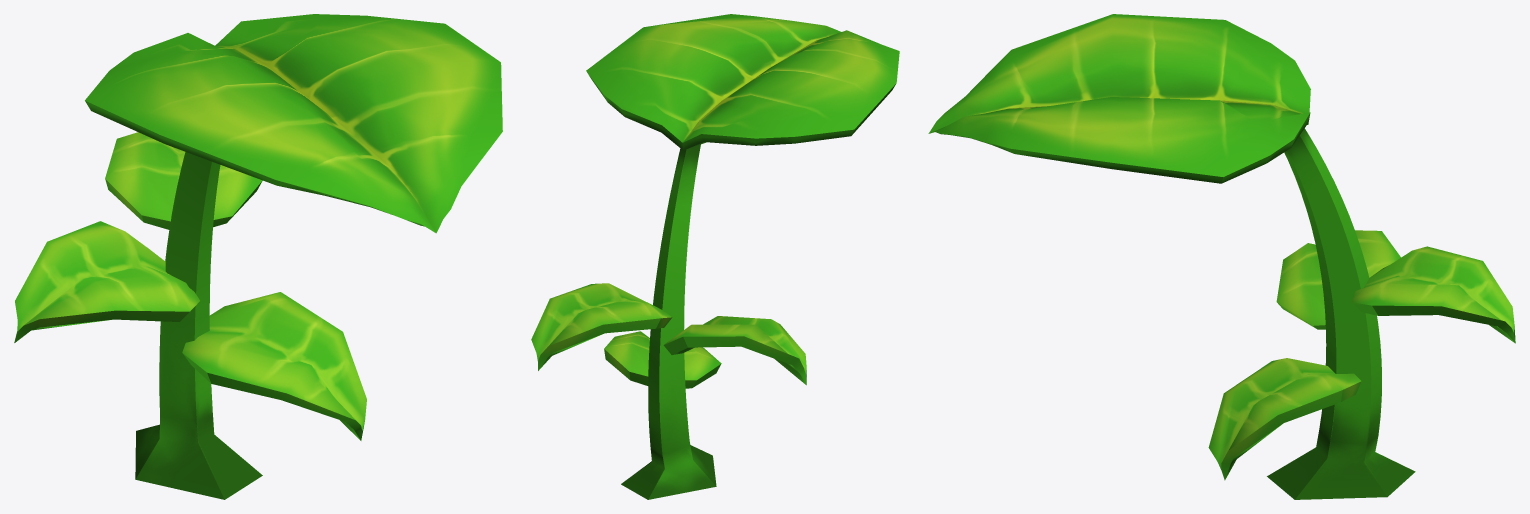
Rendered from o_leafy.fbx.
3 renders of one model, left to right at view 1: azimuth 30°, elevation 25°; view 2: azimuth 150°, elevation 25°; view 3: azimuth 270°, elevation 25°, orthographic. The views are drawn at different scales.
Parts seen in each view (by area): view 1: pPlane3, pPlane7, pCube1; view 2: pPlane3, pPlane7, pCube1; view 3: pPlane3, pPlane7, pCube1.
Boxes of the visible parts, x1,y1,x2,y2 form: pPlane3: (85,14,502,233); pPlane7: (14,132,366,440); pCube1: (135,152,262,499); pPlane3: (586,14,899,150); pPlane7: (531,283,806,388); pCube1: (621,144,716,499); pPlane3: (928,14,1310,183); pPlane7: (1208,230,1515,480); pCube1: (1267,128,1415,499).
Bounding box in the file's own units: 4.73 × 6 × 7.82.
1 material, 1 textured.
